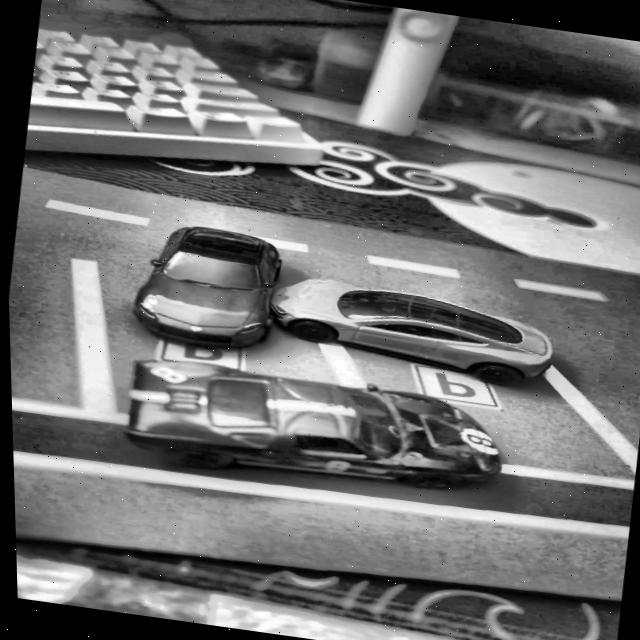car: (116, 349, 510, 512), (259, 271, 559, 392), (126, 218, 288, 356)
